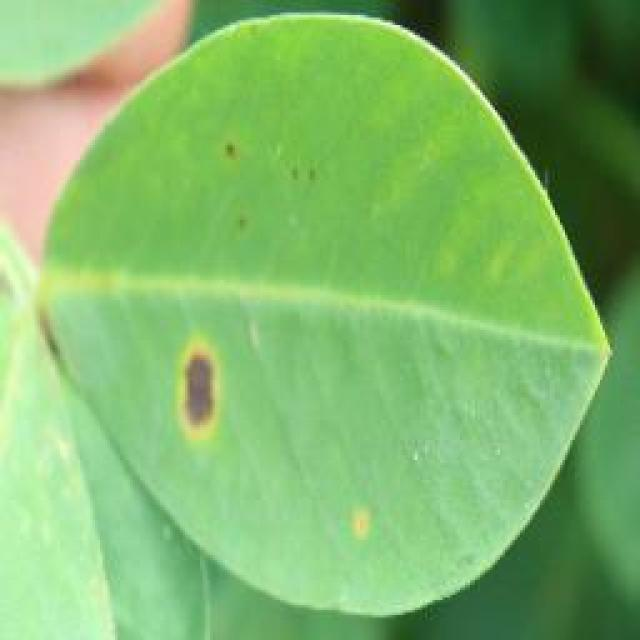Early_leaf_spot: (190, 126, 334, 250), (139, 310, 249, 467), (333, 492, 391, 567)
